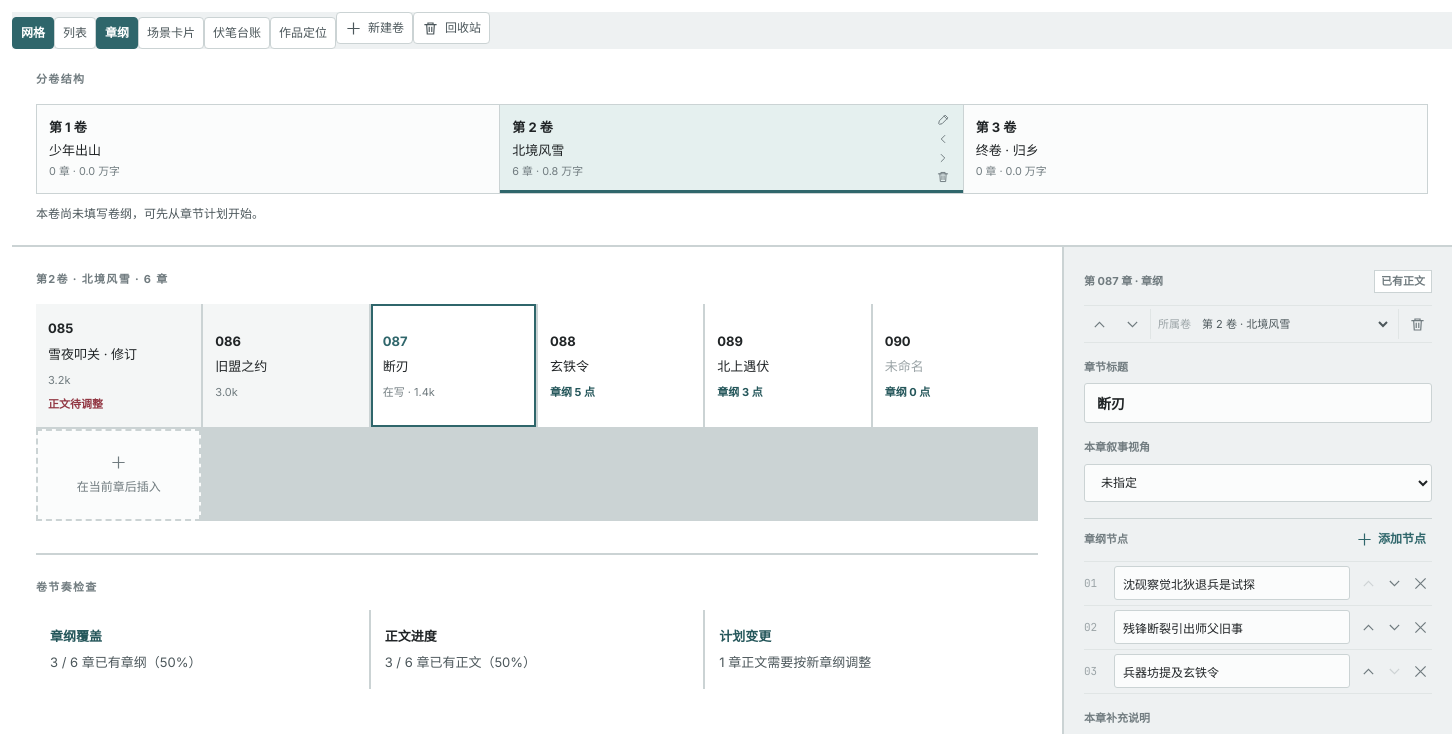
it: continuous outline editing › assigns a confirmed character as chapter POV and shows it in the outline
Click the button "089 北上遇伏 章纲 3 点".
click(788, 366)  # box [705,304,871,427]
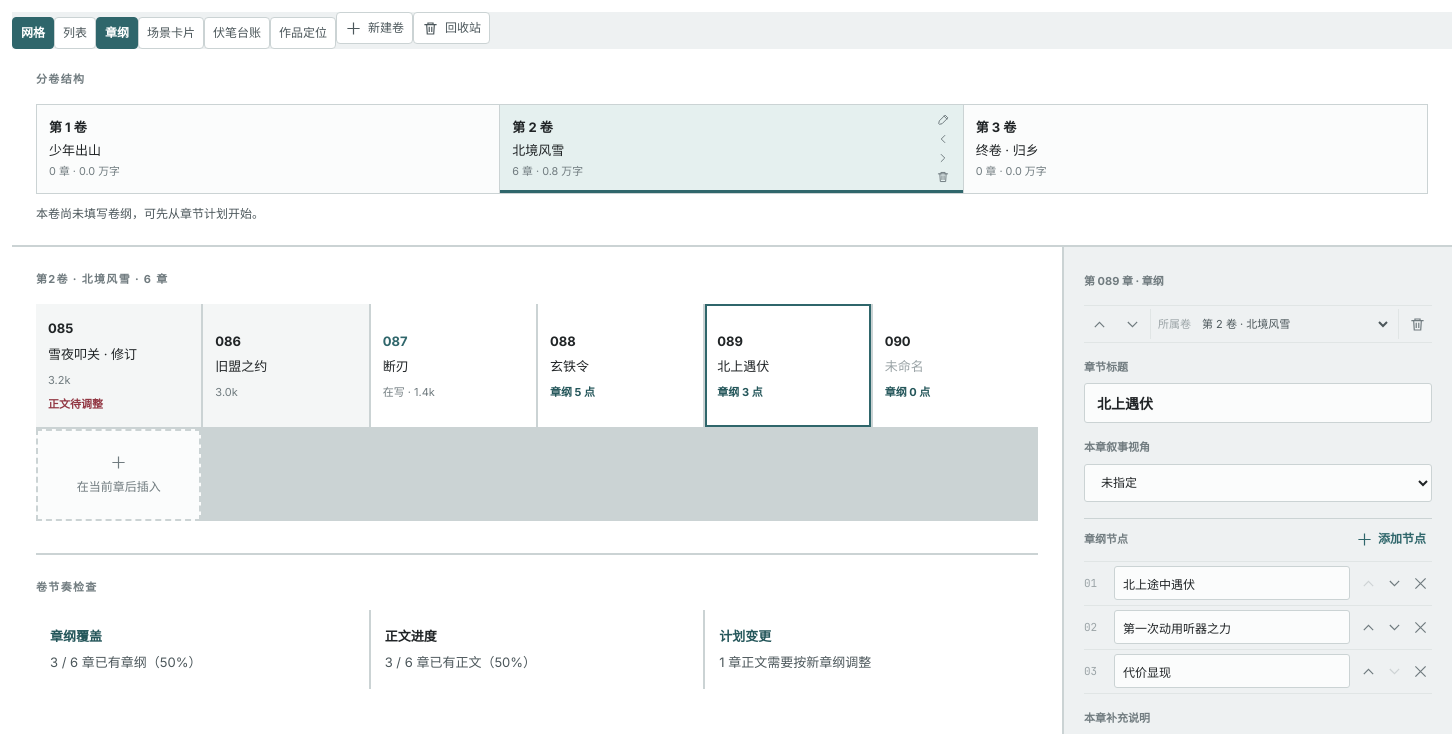
Select "沈砚 · 主角 · 雁回关守将" in the dropdown labelled "本章叙事视角" at (1258,482), box [1084,464,1432,502]
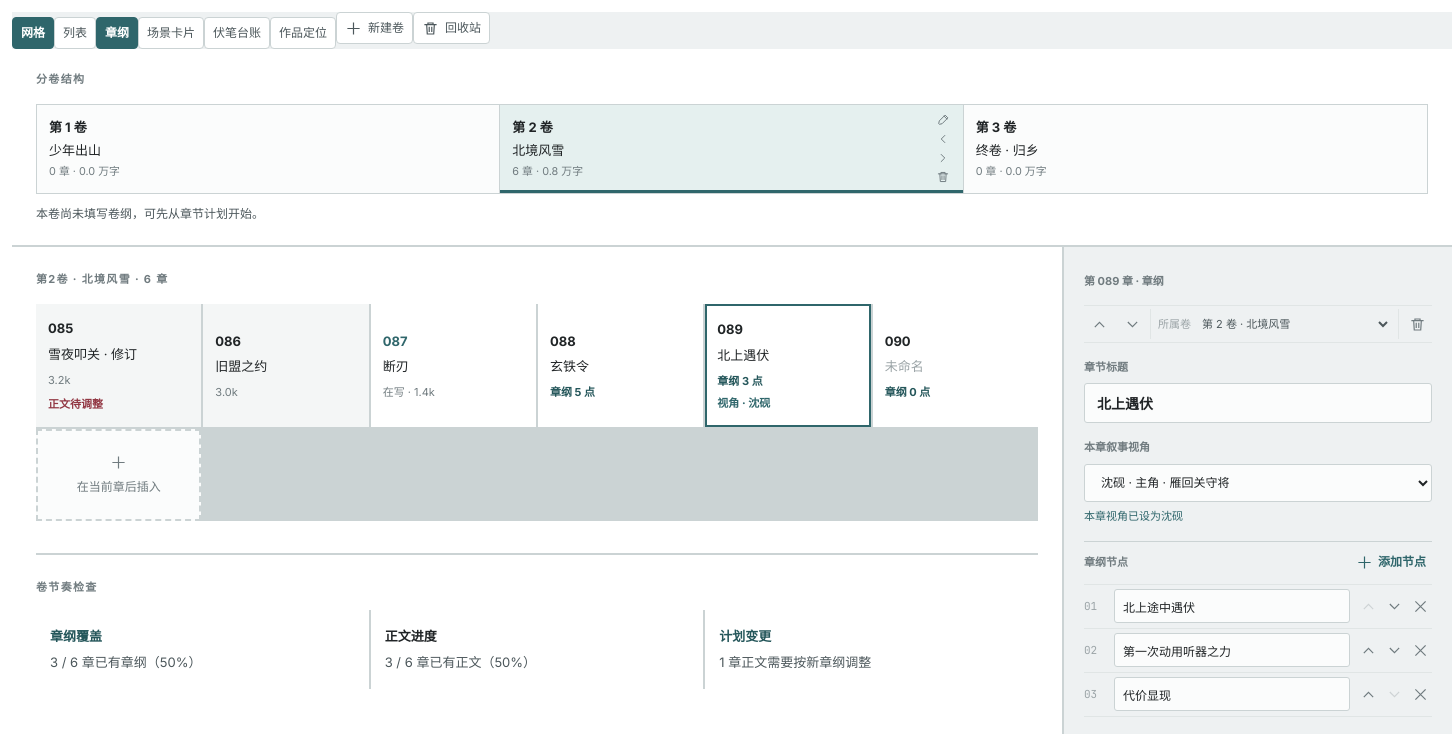
Expected: the text "本章视角已设为沈砚" is shown, [1084,508,1183,522]
Expected: the button "089 北上遇伏 章纲 3 点 视角 · 沈砚" is shown, [705,304,871,427]
